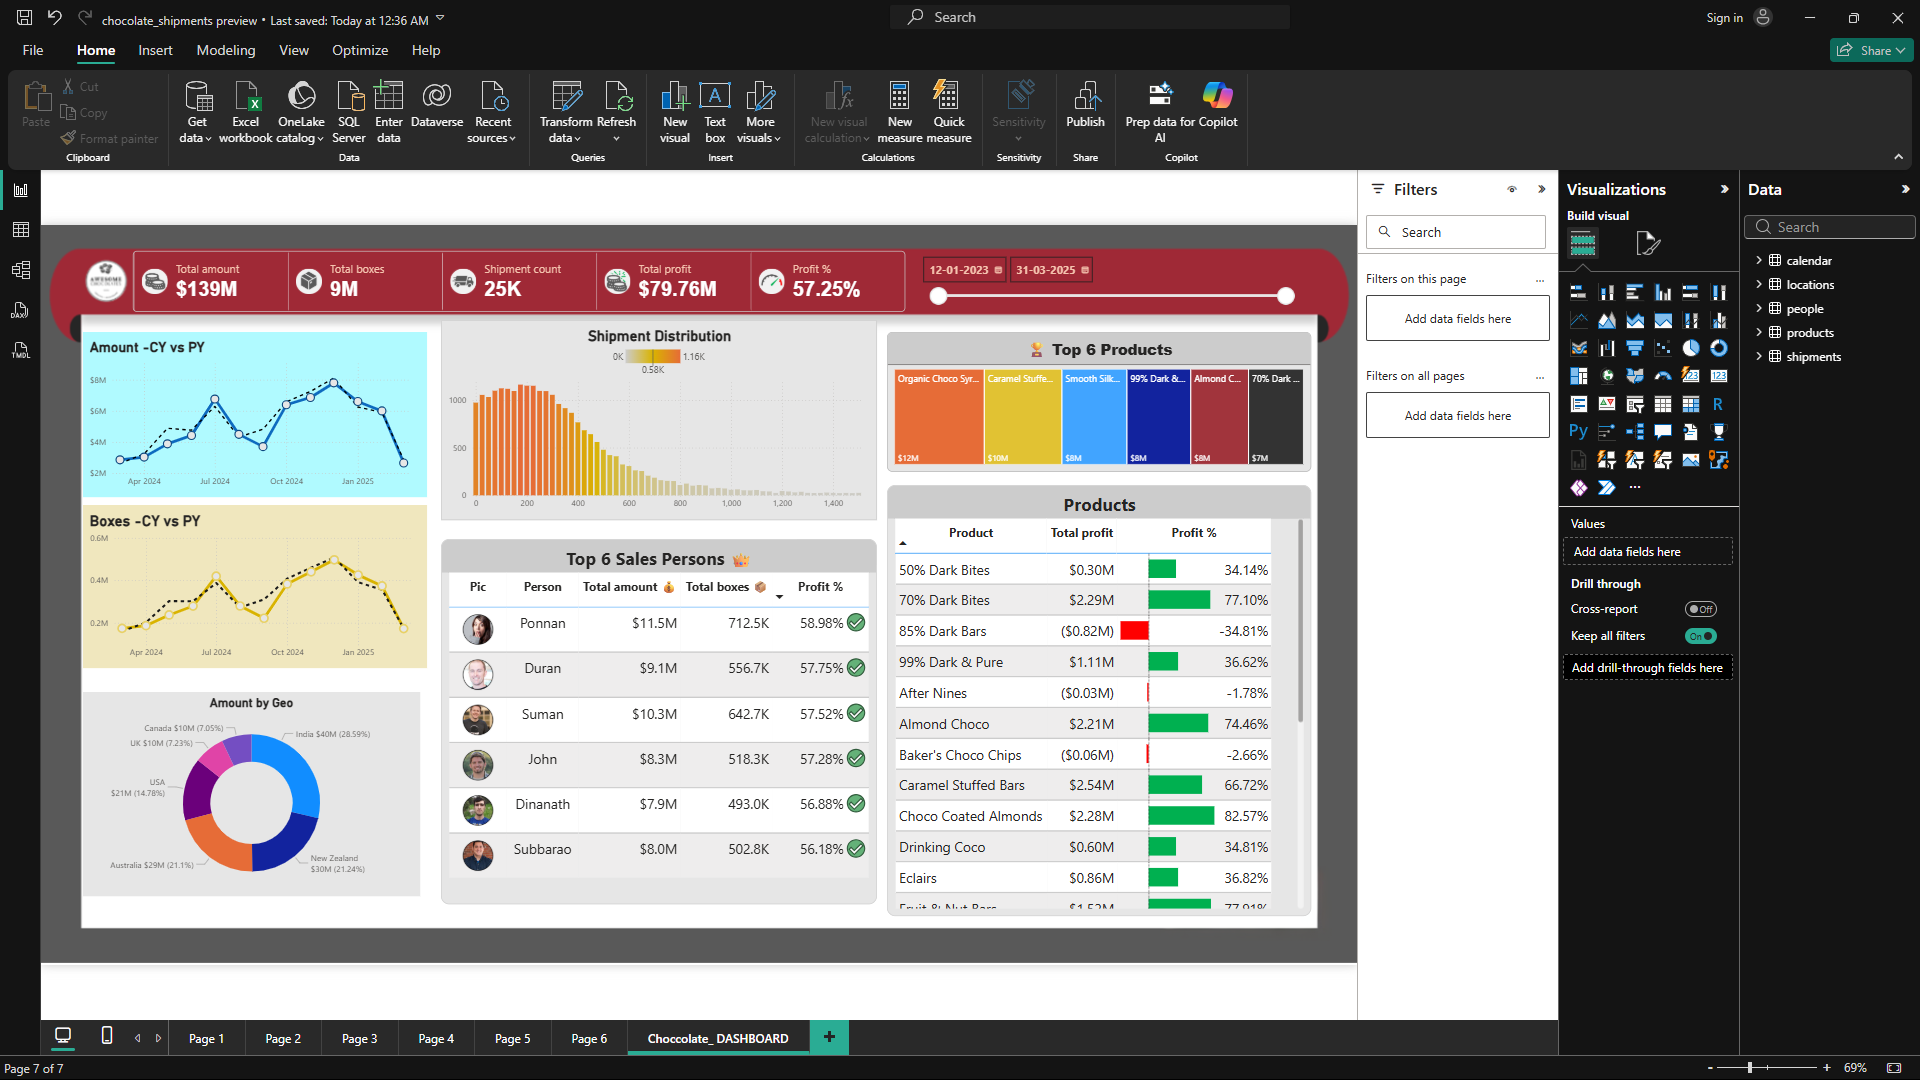

Layout of this report page (visuals, bound fields, positions):
{"tool":"powerbi","page":{"name":"BI DASHBOARD","canvas":[1920,1080],"ordinal":6},"visuals":[{"type":"lineChart","title":"Amount -CY  vs PY","fields":{"Y":["shipments.Total amount","shipments.Total amount( last year)"],"Category":["calendar.Start of month"]},"box":[61.3,156.1,501.9,240.7],"z":0},{"type":"lineChart","title":"Boxes -CY vs PY","fields":{"Category":["calendar.Start of month"],"Y":["shipments.totoal boxes","shipments.Total boxes( last year)"]},"box":[61.3,408.5,501.9,237.8],"z":1000},{"type":"donutChart","title":"Amount by Geo","fields":{"Category":["locations.Geo"],"Y":["shipments.Total amount"]},"box":[61.3,681.3,491.7,297.6],"z":2000},{"type":"clusteredColumnChart","title":"Shipment  Distribution","fields":{"Y":["shipments.Shipment count"],"Category":["shipments.Boxes (bins)"]},"box":[583.6,138.6,636.1,291.8],"z":3000},{"type":"tableEx","title":" Top  6 Sales Persons 👑","fields":{"Values":["people.Picture","people.First name","shipments.Total amount","shipments.total boxes","shipments.Profit %"]},"box":[583.6,458.1,636.1,532.5],"z":4000},{"type":"treemap","title":"🏆 Top 6 Products ","fields":{"Values":["shipments.Total amount"],"Group":["products.Product"]},"box":[1234.3,156.1,618.6,204.3],"z":5000},{"type":"tableEx","title":" Products","fields":{"Values":["products.Product","shipments.Total profit","shipments.Profit %"]},"box":[1234.3,379.3,618.6,628.8],"z":6000},{"type":"cardVisual","fields":{"Data":["shipments.Total amount","shipments.Total boxes","shipments.Shipment count","shipments.Total profit","shipments.Profit %"]},"box":[124,28,1145.3,112.3],"z":7000},{"type":"slicer","fields":{"Values":["calendar.cal_date"]},"box":[1269.3,36.5,573.4,96.3],"z":8000}]}

Visuals, with their boxes on the page's 1920x1080 design canvas (x1, y1, x2, y2). These are canvas units, not pixel positions in the 1920x1080 screenshot, which may show the page scaled, cropped or inside an application window:
"Amount -CY  vs PY" lineChart: 61 156 563 397
"Boxes -CY vs PY" lineChart: 61 408 563 646
"Amount by Geo" donutChart: 61 681 553 979
"Shipment  Distribution" clusteredColumnChart: 584 139 1220 430
" Top  6 Sales Persons 👑" tableEx: 584 458 1220 991
"🏆 Top 6 Products " treemap: 1234 156 1853 360
" Products" tableEx: 1234 379 1853 1008
cardVisual - shipments.Total amount x shipments.Total boxes: 124 28 1269 140
slicer - calendar.cal_date: 1269 36 1843 133
